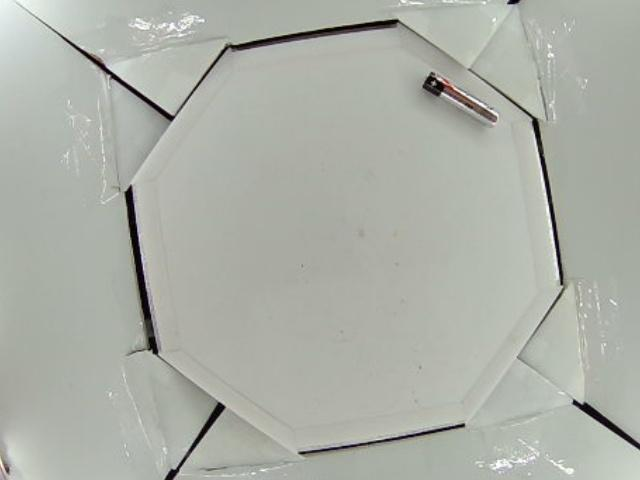Battery: (421, 70, 499, 125)
